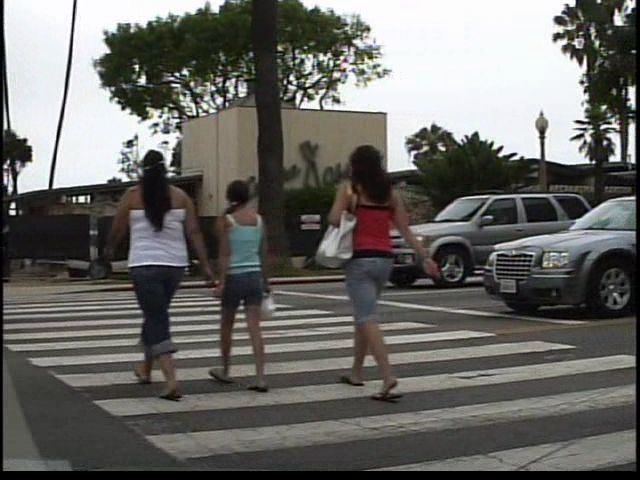person: (331, 130, 437, 398), (91, 139, 188, 403), (215, 173, 289, 397)
